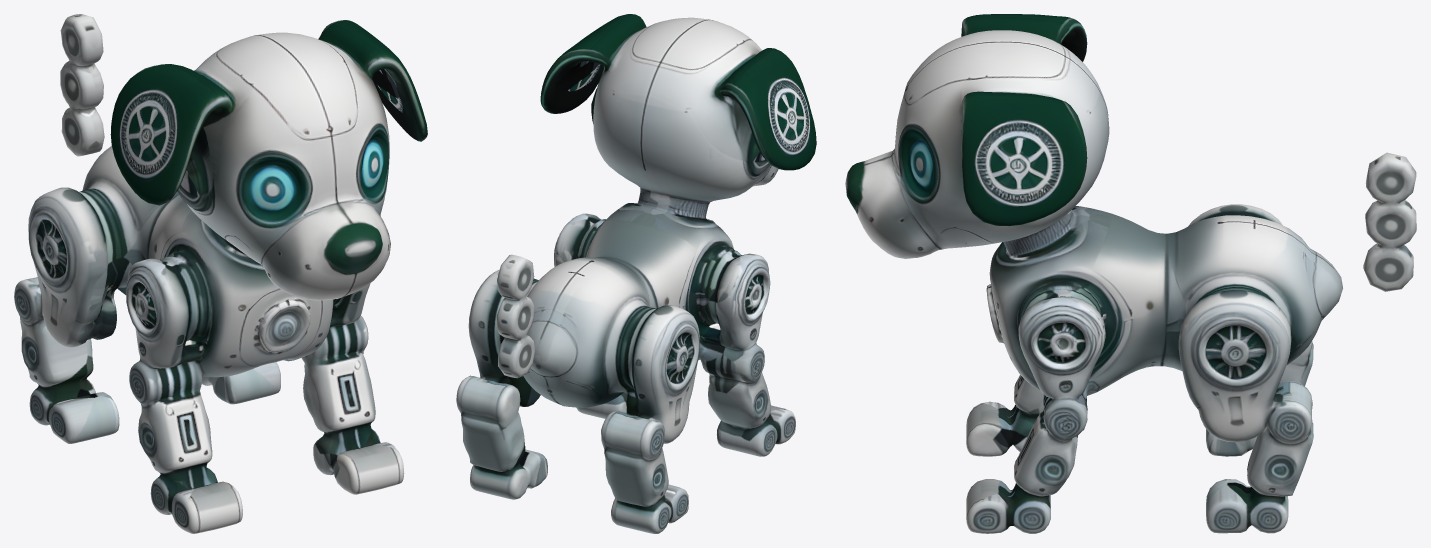
File: cyberDog.glb
3 views of the same model, side by side, from view 1: azimuth 30°, elevation 25°; view 2: azimuth 150°, elevation 25°; view 3: azimuth 270°, elevation 25° (orthographic). The views are drawn at different scales.
Visible parts, largest first — view 1: Object_2; view 2: Object_2; view 3: Object_2.
Part boxes in pixels (x1,y1,x2,y2): Object_2: [14, 14, 427, 533]; Object_2: [456, 14, 816, 533]; Object_2: [845, 14, 1416, 533].
Size of the model in its own units: 1.03 by 1.61 by 1.89.
Materials: 1 (1 with a texture image).
